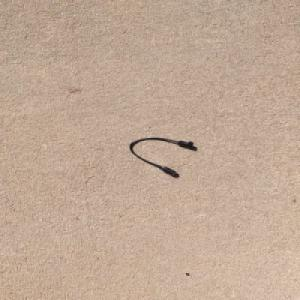Wire: (128, 137, 194, 176)
